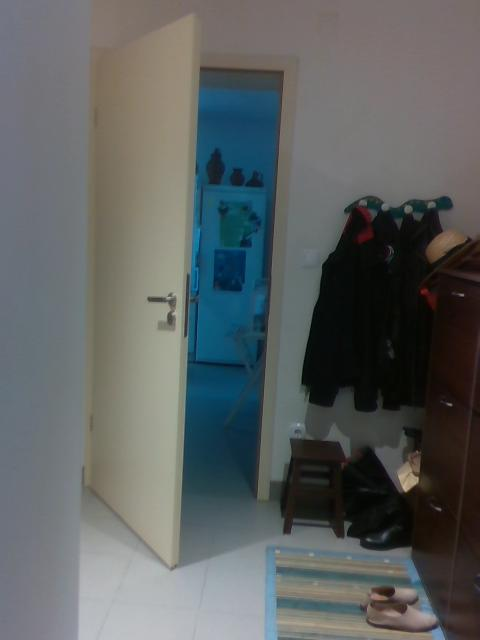semi_door: (81, 1, 298, 569)
